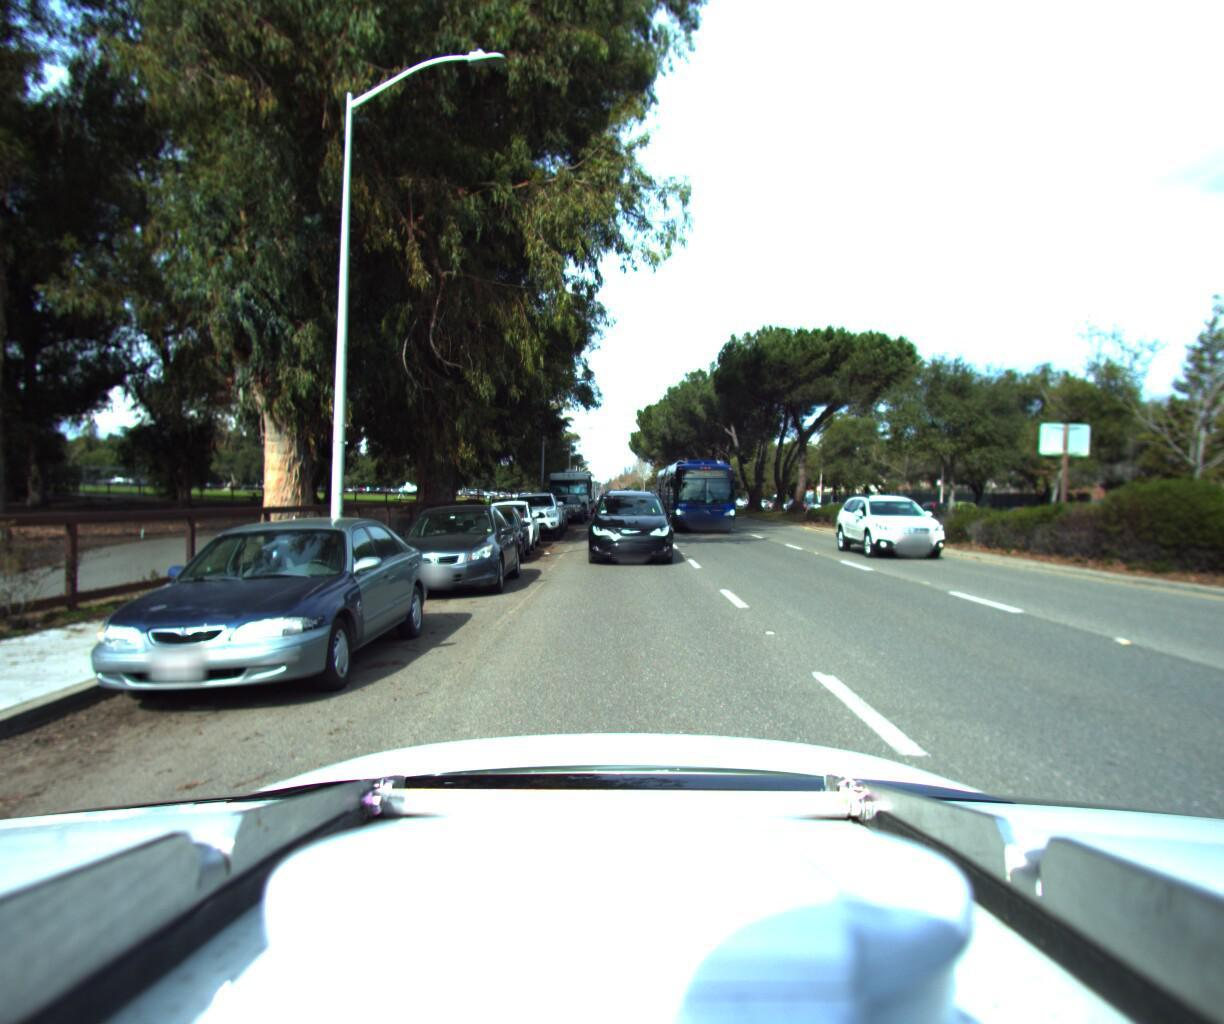bus: (655, 453, 745, 534)
car: (45, 506, 443, 735), (377, 495, 526, 602), (837, 482, 979, 556), (583, 476, 673, 560), (449, 496, 532, 563), (476, 492, 541, 546), (504, 483, 565, 537), (523, 492, 568, 529), (550, 486, 583, 518), (605, 483, 631, 506)
other_vehicle: (540, 460, 592, 516), (561, 462, 596, 508), (569, 473, 599, 504)
